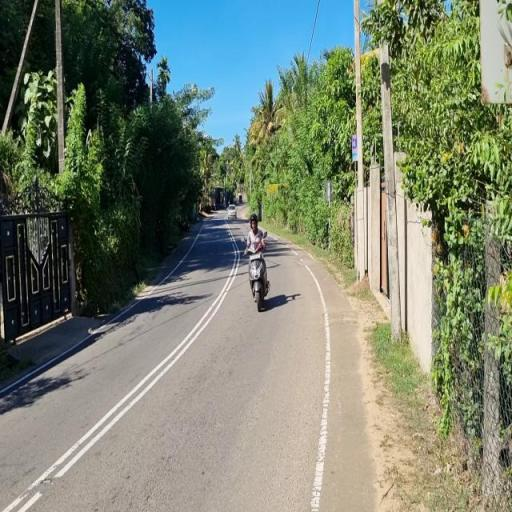double_white_line: (0, 230, 243, 512)
